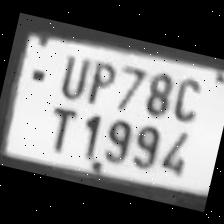1: (72, 105, 108, 160)
4: (155, 118, 197, 175)
7: (108, 57, 149, 115)
8: (138, 66, 176, 118)
9: (96, 110, 137, 166), (127, 118, 165, 170)
C: (167, 69, 206, 124)
P: (80, 52, 122, 108)
T: (38, 97, 83, 157)
U: (51, 47, 94, 101)
